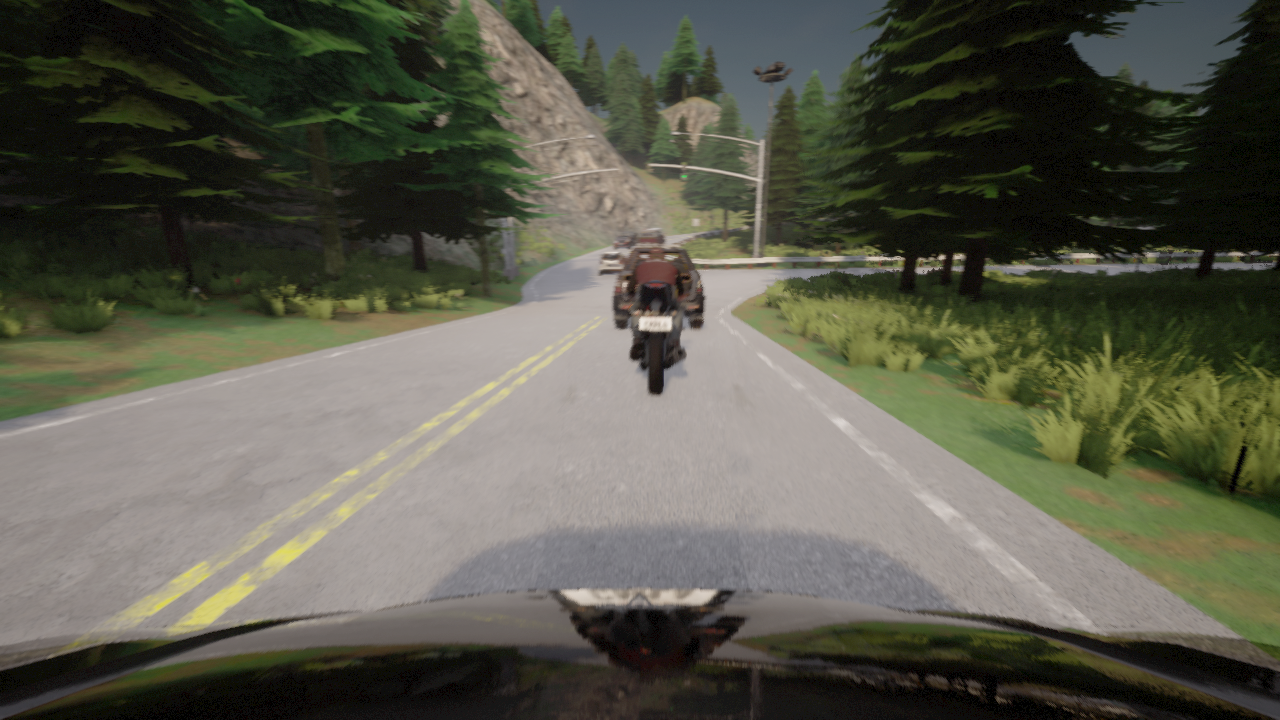cyclist: (0, 588, 1279, 719), (623, 274, 691, 394), (613, 244, 704, 328), (598, 251, 626, 274), (639, 227, 665, 243), (614, 231, 638, 248)
